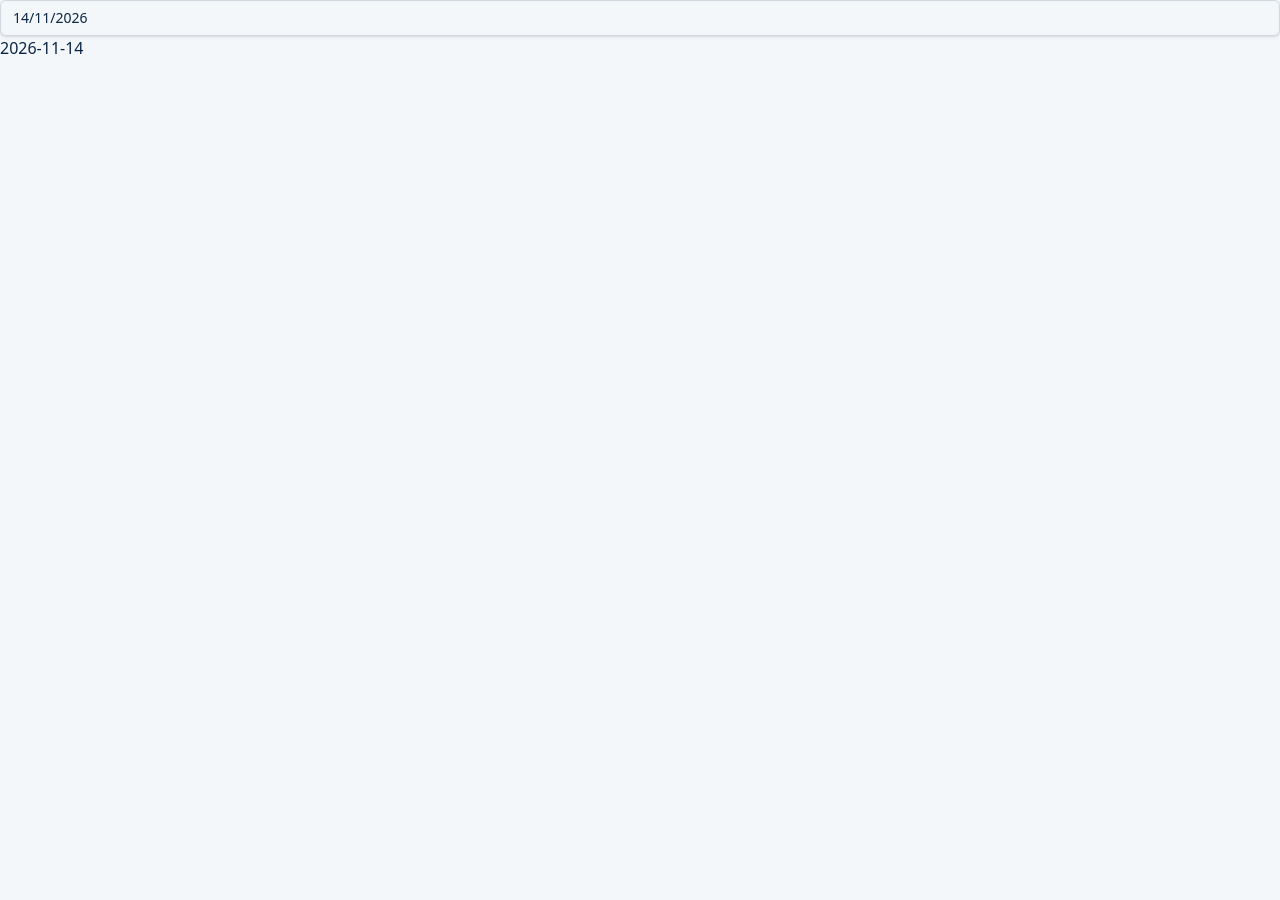
seleciona pelo calendário do app, respeita os limites e devolve a data local em ISO
The width and height of the screenshot is (1280, 900).
What coordinates should you click on to do the following:
click the button named "Data da consulta"
I would click on:
 (50, 18)
Its box is [0, 0, 1279, 36].
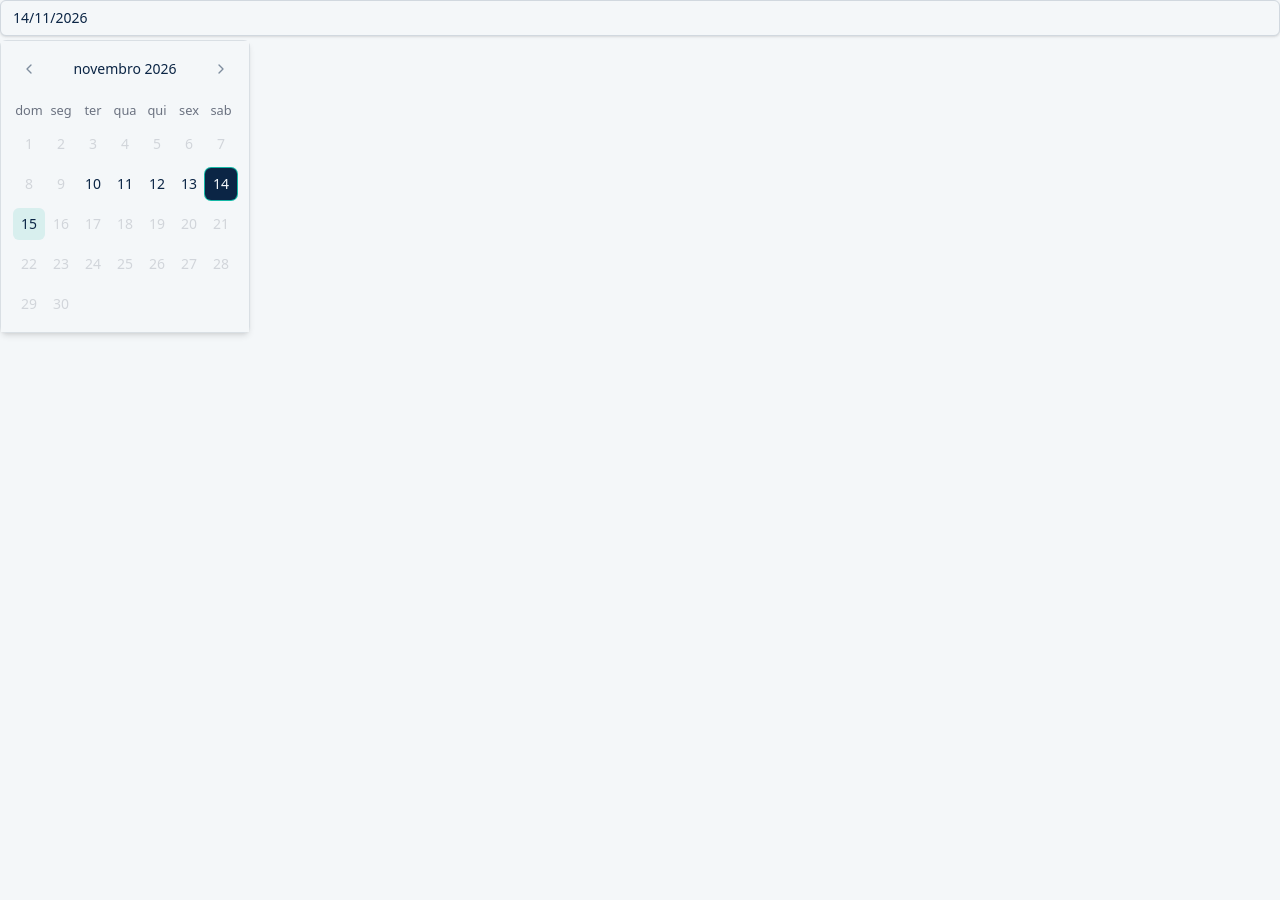
Check: the button named ", 9 de novembro de 2026" is disabled, box [45, 168, 77, 200]
Check: the button named "16 de novembro de 2026" is disabled, box [45, 208, 77, 240]
What coordinates should you click on to do the following:
click the button named "15 de novembro de 2026"
I would click on:
 (29, 224)
Its box is [13, 208, 45, 240].
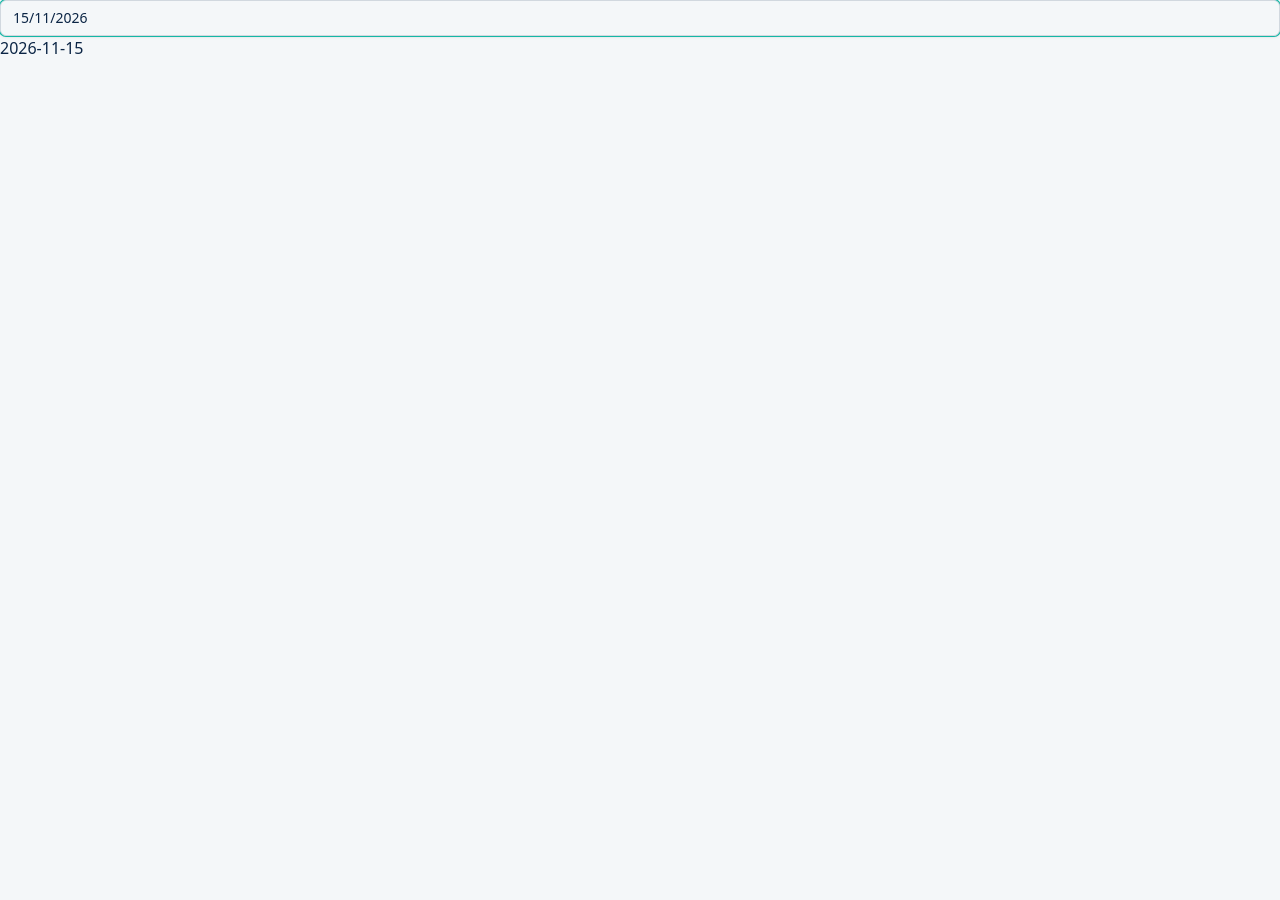
Check: the text "2026-11-15" is shown, box [0, 37, 84, 59]
Check: the button named "Data da consulta" reads "15/11/2026", box [0, 0, 1279, 36]
